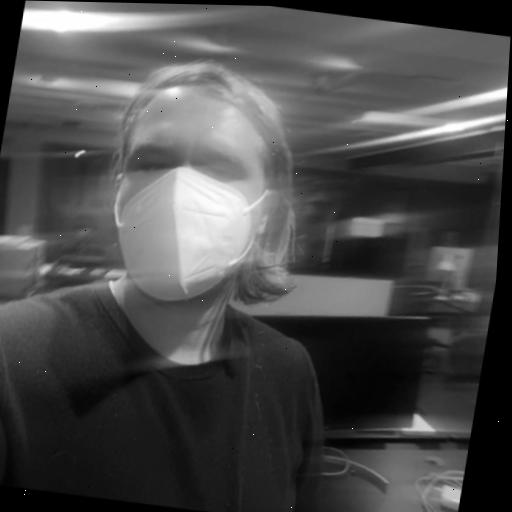mask: (80, 51, 327, 338)
